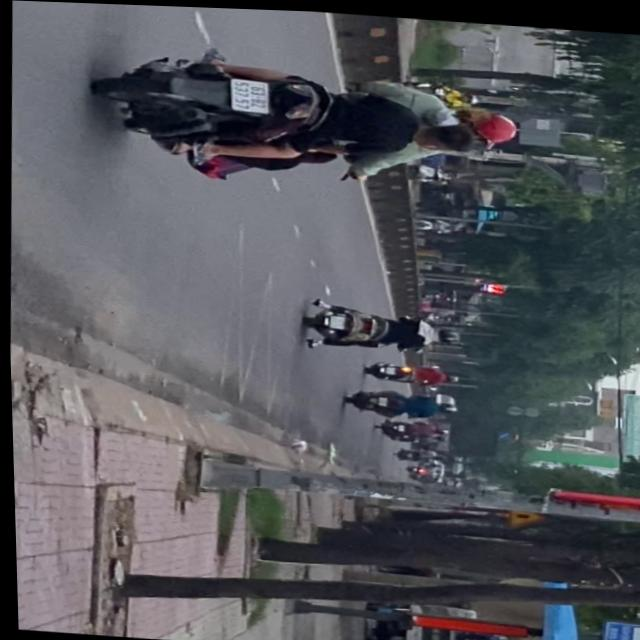helmet: (455, 104, 517, 143)
licenseplate: (87, 42, 525, 194)
motorcyclist: (413, 116, 476, 150)
nohelmet: (231, 77, 269, 111)
